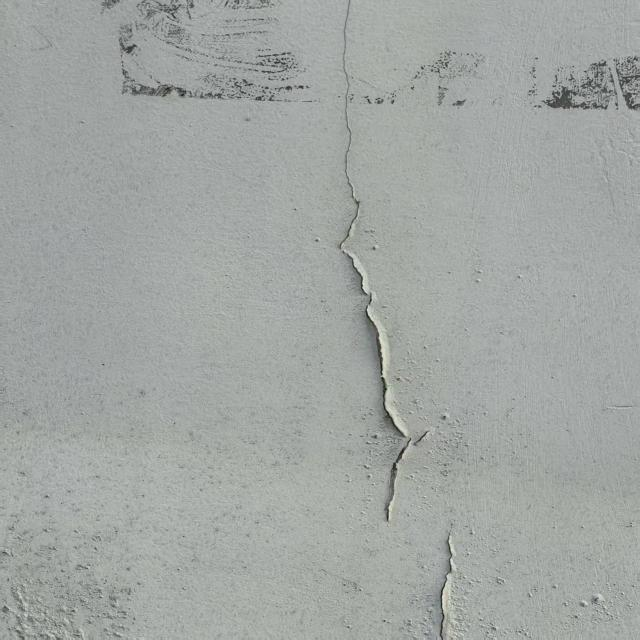crack: (328, 7, 448, 524), (434, 518, 463, 638)
